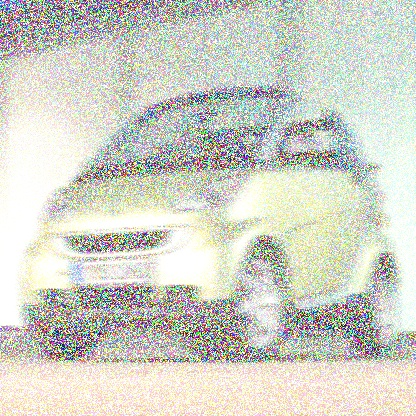Vehicle: (17, 81, 399, 369)
